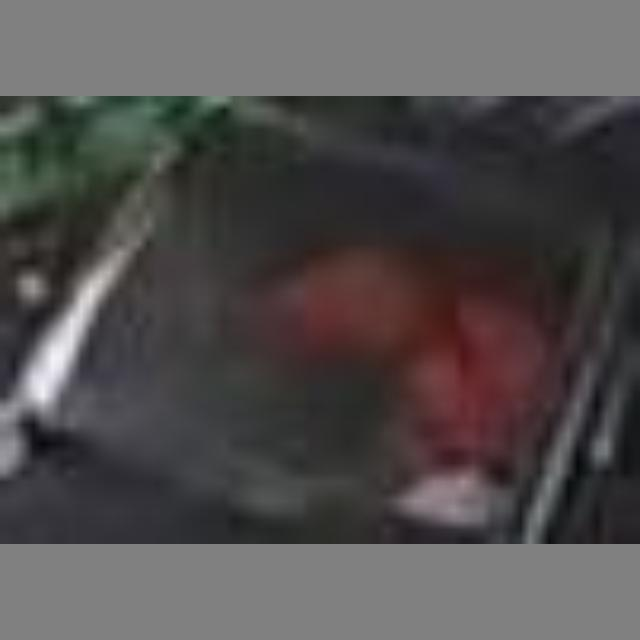pakai: (287, 211, 544, 478)
